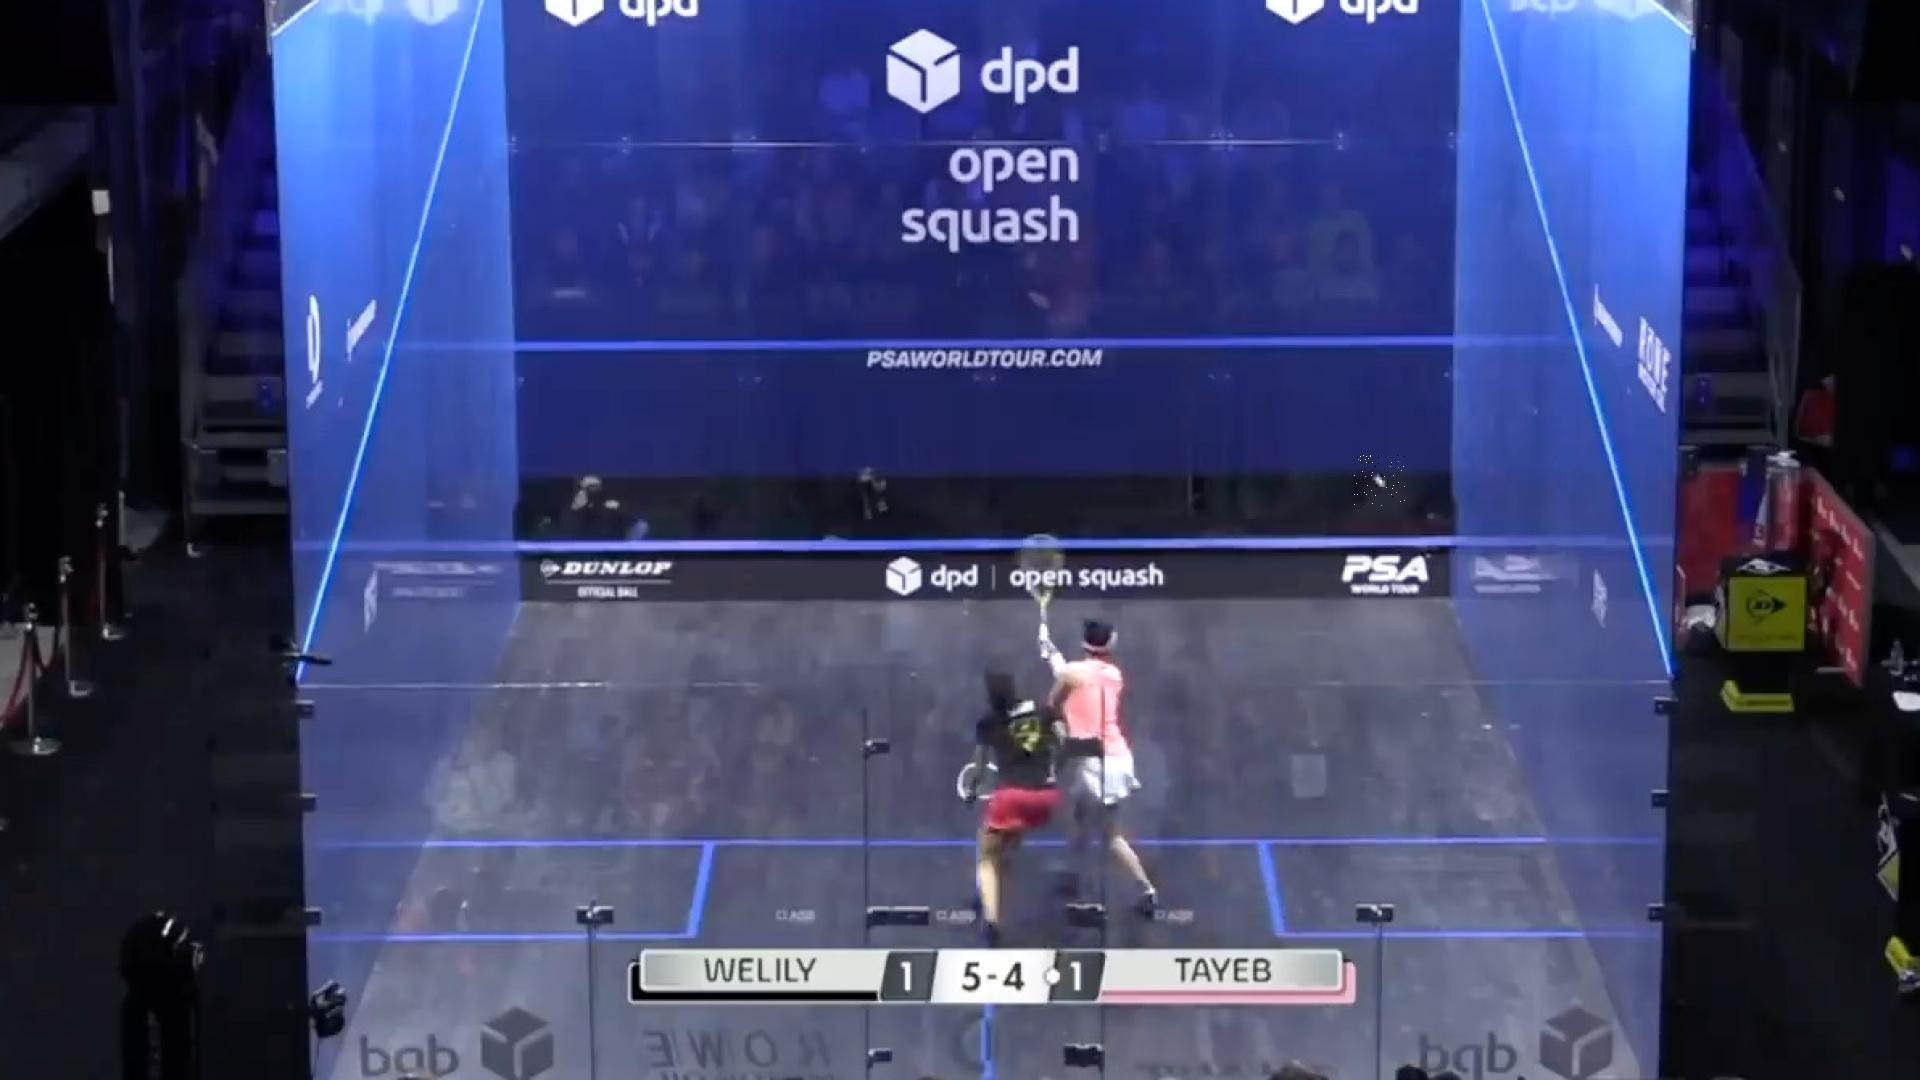Squash-Ball: (1354, 455, 1404, 506)
